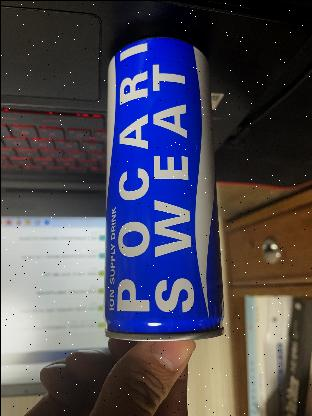Can: (110, 32, 216, 344)
